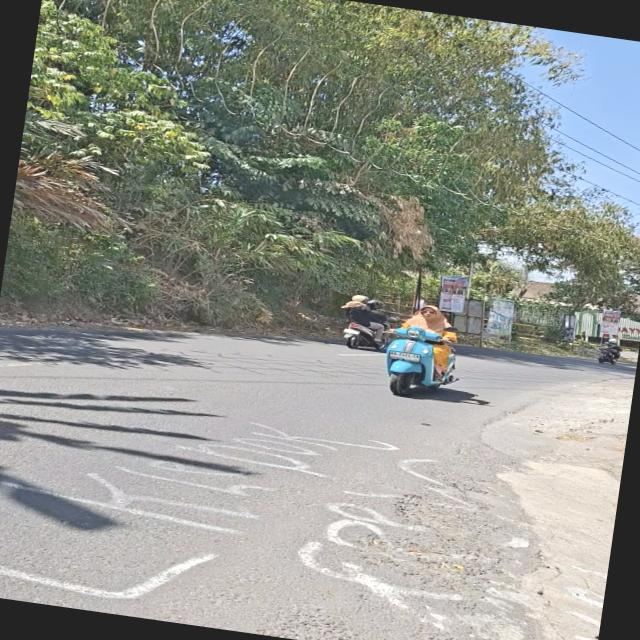WithHelmet: (360, 299, 399, 333), (598, 337, 626, 362)
WithoutHelmet: (377, 299, 463, 385), (336, 292, 389, 343)
